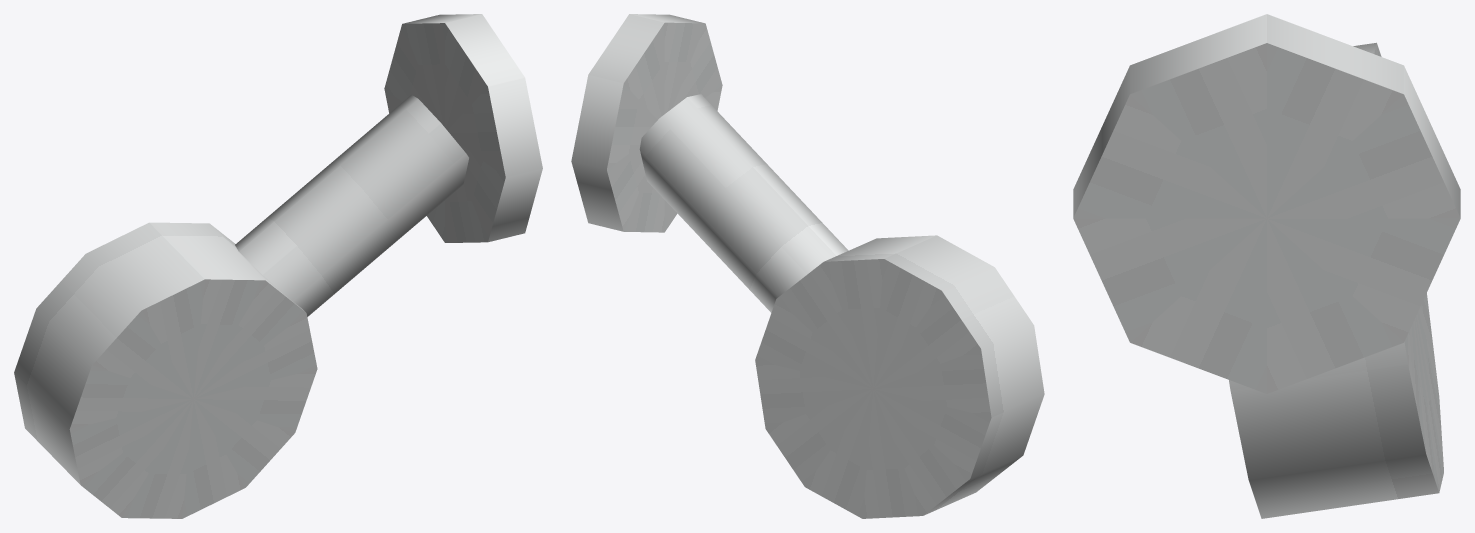
Rendered from trusssignalarm_stub_119.obj.
3 views of the same model, side by side, from view 1: azimuth 30°, elevation 25°; view 2: azimuth 150°, elevation 25°; view 3: azimuth 270°, elevation 25° (orthographic). The views are drawn at different scales.
Parts seen in each view (by area): view 1: trusssignalarm_stub_119; view 2: trusssignalarm_stub_119; view 3: trusssignalarm_stub_119.
Part boxes in pixels (box(x1,y1,x2,y2)): trusssignalarm_stub_119: box(14, 14, 542, 518); trusssignalarm_stub_119: box(571, 14, 1044, 518); trusssignalarm_stub_119: box(1073, 14, 1460, 518).
Bounding box in the file's own units: 0.7056 × 0.6864 × 0.35.
